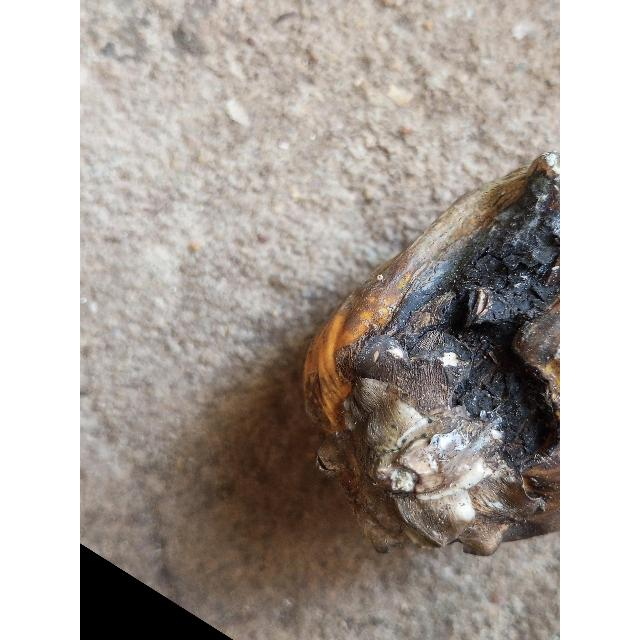damaged: (306, 159, 560, 555)
